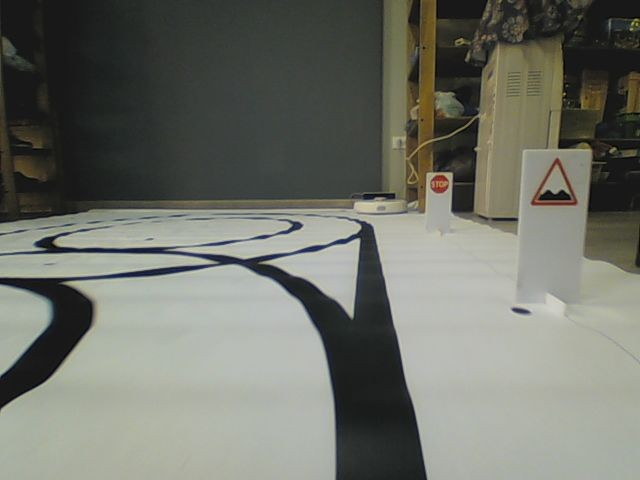Nerov: (528, 155, 580, 208)
Stop: (429, 174, 449, 194)
